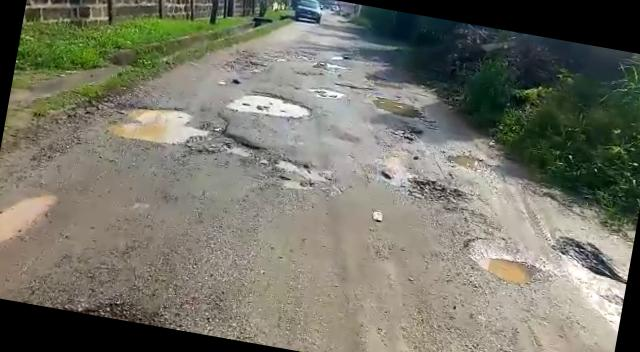pothole: (97, 92, 266, 162), (456, 234, 547, 288), (546, 234, 632, 285), (0, 184, 59, 258), (225, 86, 318, 126), (270, 157, 342, 198), (402, 173, 472, 210), (443, 150, 497, 176), (370, 96, 425, 120), (309, 84, 347, 100), (332, 78, 374, 92)
